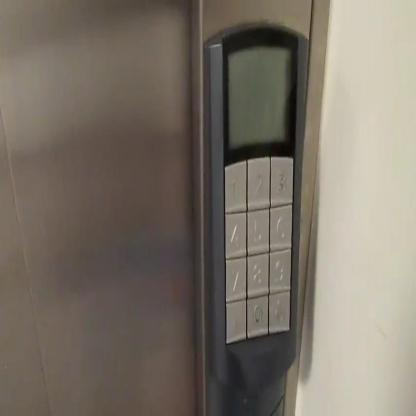0: (246, 292, 268, 340)
1: (223, 159, 247, 213)
2: (246, 154, 270, 212)
3: (270, 153, 294, 208)
4: (223, 210, 247, 259)
5: (246, 206, 270, 258)
6: (269, 200, 294, 253)
7: (224, 254, 248, 303)
8: (245, 250, 269, 299)
9: (268, 244, 292, 295)
CH: (268, 288, 291, 335)
empty: (225, 296, 247, 345)
